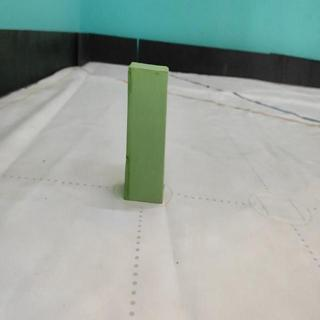greenbox: (123, 60, 170, 204)
